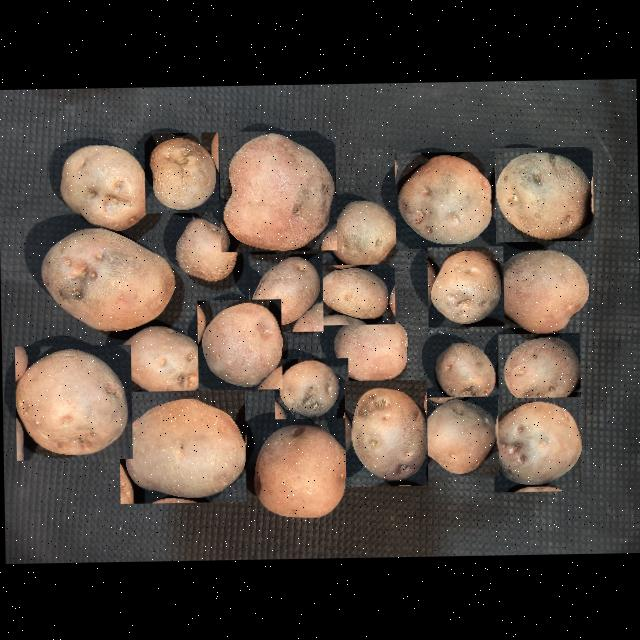Defected potato: (13, 344, 132, 459)
Diseased-fungal potato: (39, 223, 175, 334), (117, 388, 245, 502), (218, 128, 336, 250), (487, 145, 593, 241), (393, 150, 495, 248), (248, 422, 346, 524), (53, 138, 154, 232), (494, 236, 590, 334), (343, 378, 427, 486), (491, 395, 581, 491), (196, 298, 282, 389), (114, 322, 208, 398), (329, 304, 414, 386), (417, 395, 498, 476), (426, 245, 503, 326), (496, 332, 580, 406), (142, 131, 218, 212), (247, 252, 322, 331), (324, 194, 399, 271), (313, 263, 394, 324), (272, 357, 348, 418), (170, 216, 238, 284), (430, 340, 498, 402)
